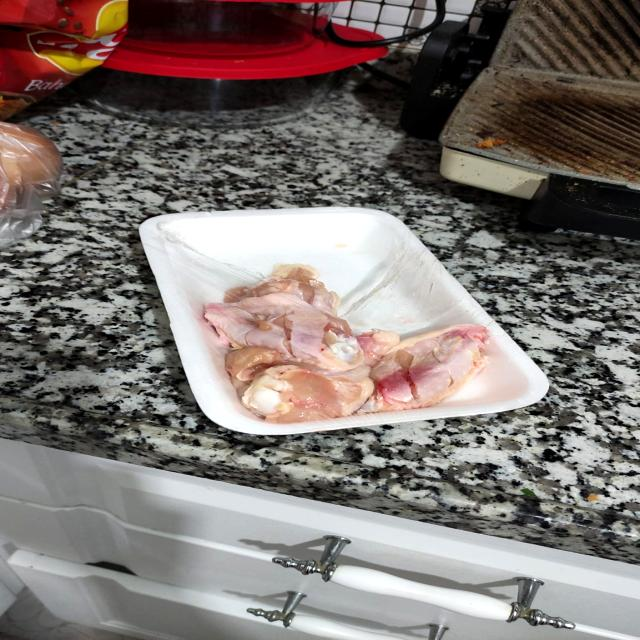chicken: (146, 220, 526, 440)
